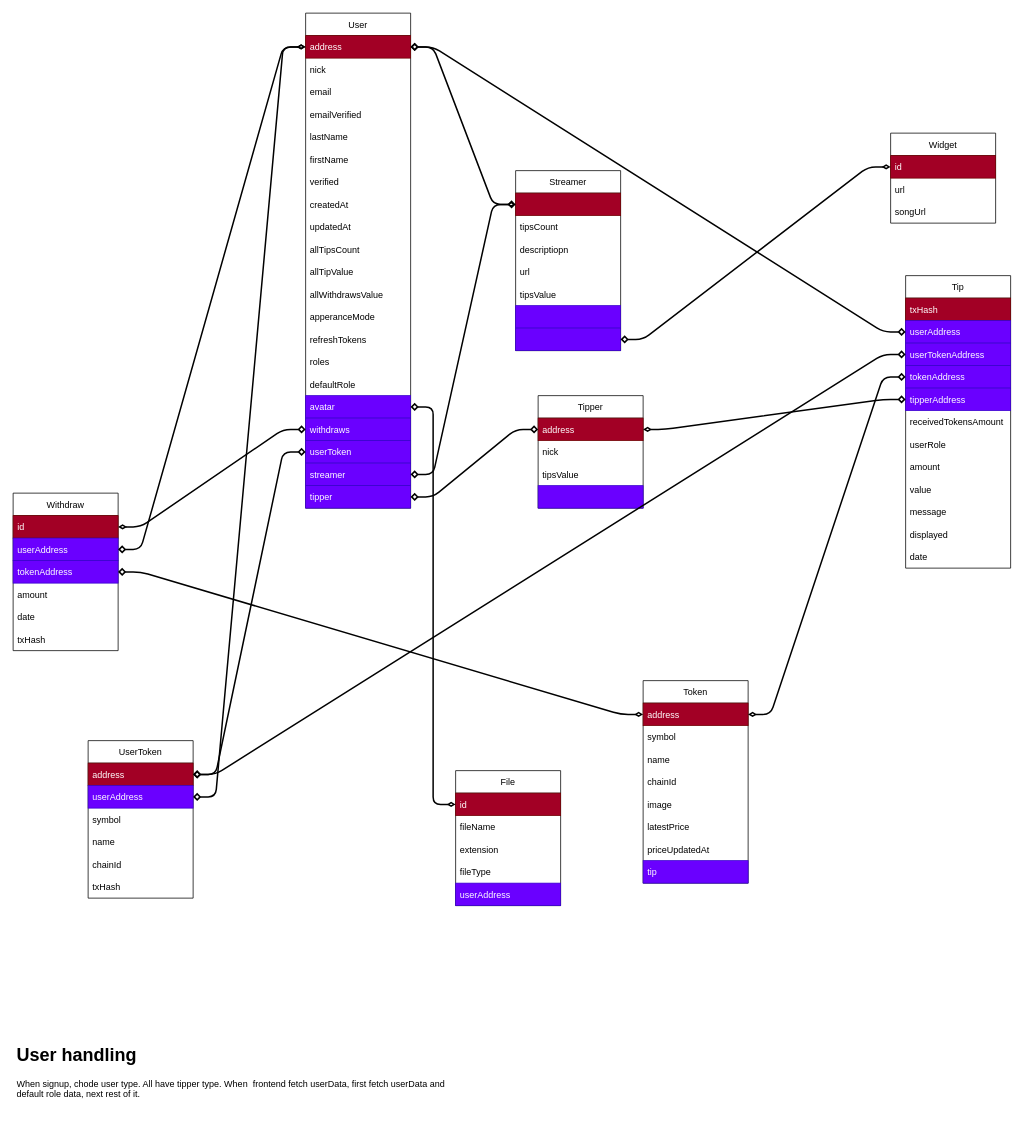
Some shapes in this 1024 by 1144 pixel diagram are drawn without their labels. Each missing label, with the centre of its shape:
"activeTokens" belongs at pixel 568 316.
"adress" belongs at pixel 568 204.
"tips" belongs at pixel 590 496.
"widgets" belongs at pixel 568 339.
